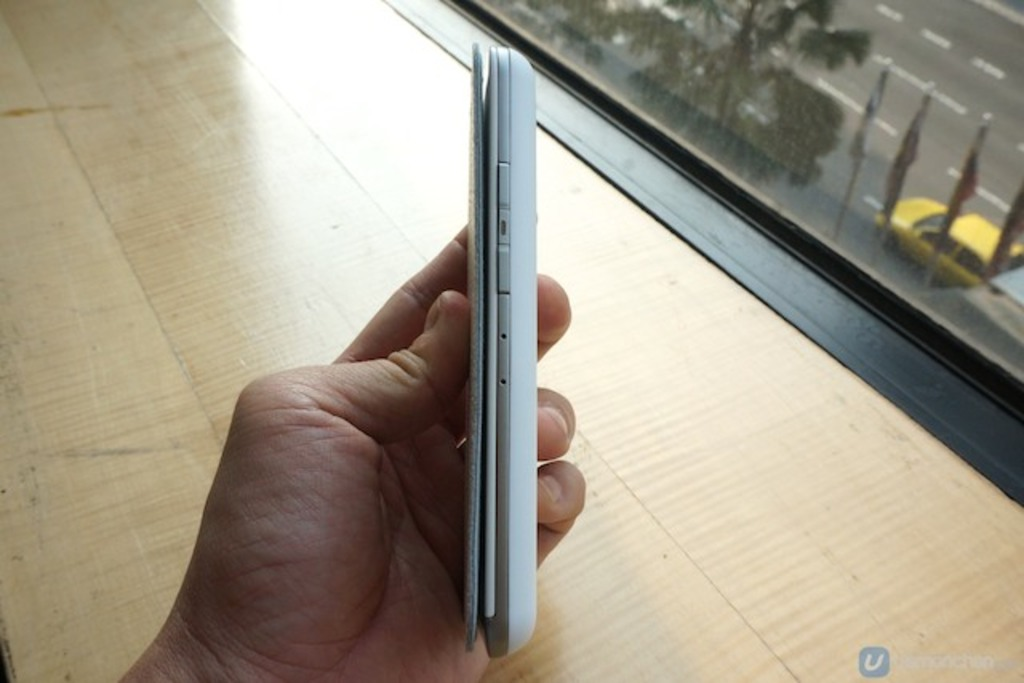Mobile-phone: (458, 38, 539, 662)
